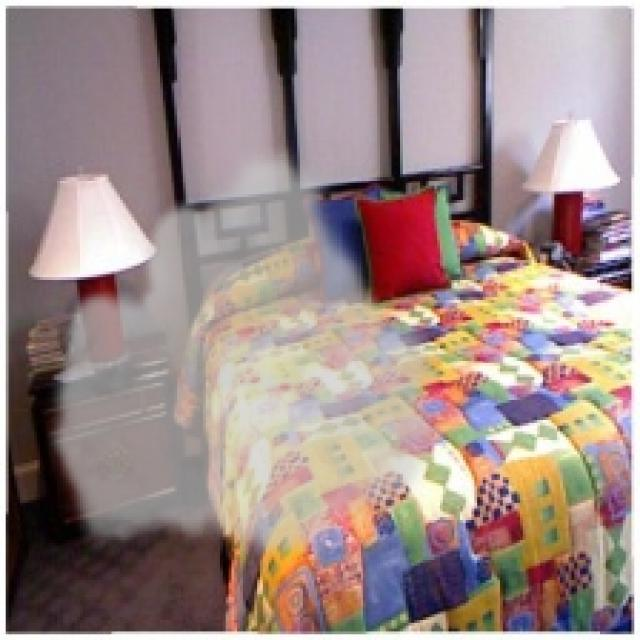smoke: (46, 140, 448, 560)
